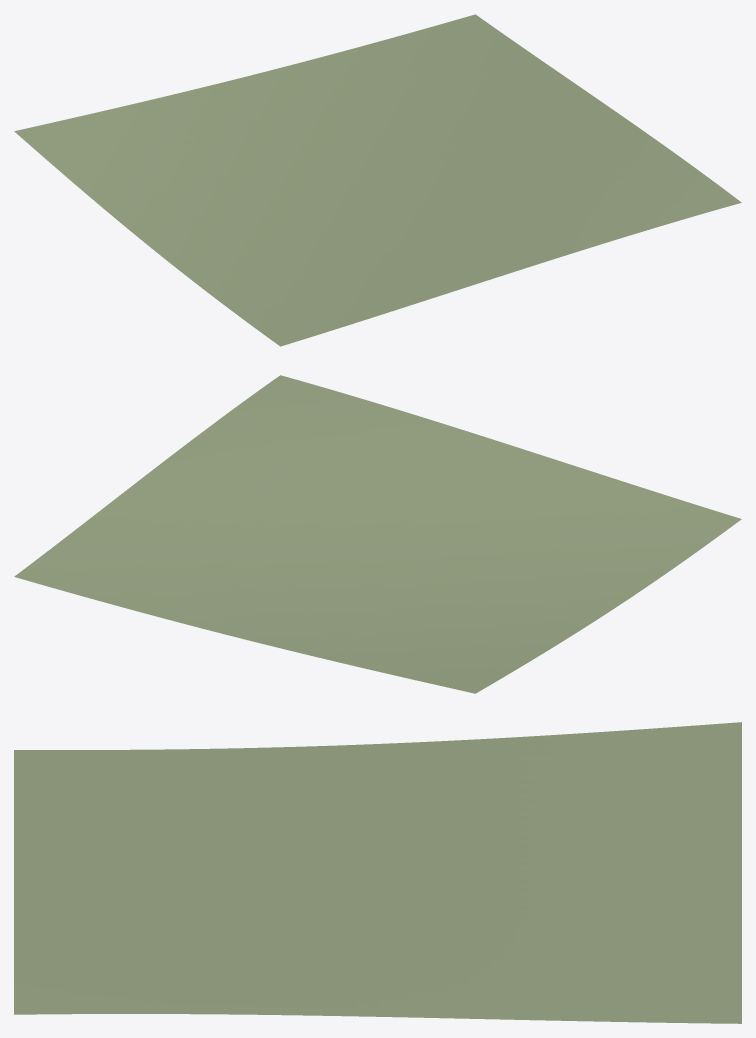
The model's file is alpine-1-11.glb.
3 renders of one model, top to bottom at view 1: azimuth 30°, elevation 25°; view 2: azimuth 150°, elevation 25°; view 3: azimuth 270°, elevation 25°, orthographic. The views are drawn at different scales.
Parts seen in each view (by area): view 1: alpine-1-11; view 2: alpine-1-11; view 3: alpine-1-11.
Part boxes in pixels (box(x1,y1,x2,y2)): alpine-1-11: box(14, 14, 741, 346); alpine-1-11: box(14, 375, 741, 693); alpine-1-11: box(14, 722, 741, 1023).
Size of the model in its own units: 256 by 16.98 by 256.
